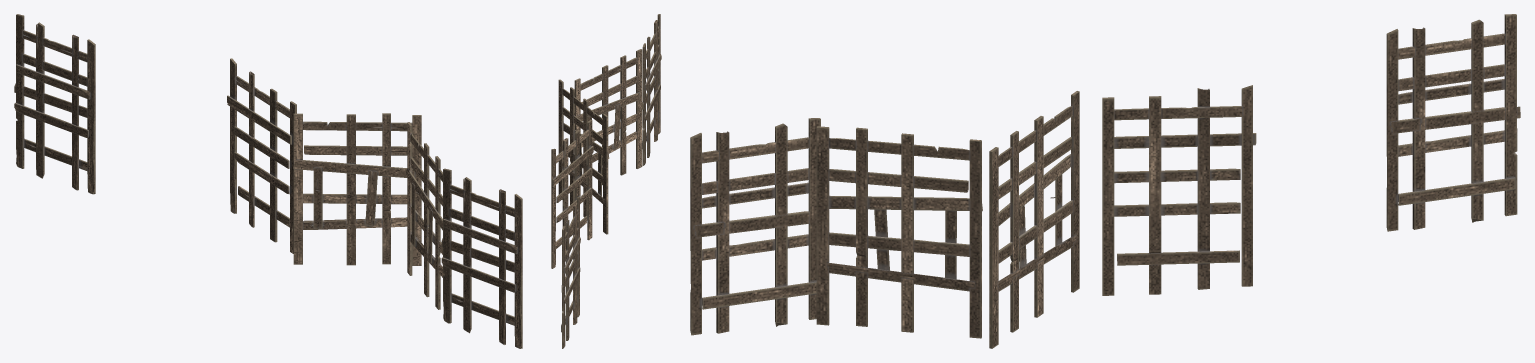
Rendered from Props_01_Fence_Unity.FBX.
3 renders of one model, left to right at view 1: azimuth 30°, elevation 25°; view 2: azimuth 150°, elevation 25°; view 3: azimuth 270°, elevation 25°, orthographic. The views are drawn at different scales.
Parts seen in each view (by area): view 1: Props_01_Fence_UNity; view 2: Props_01_Fence_UNity; view 3: Props_01_Fence_UNity.
Boxes of the visible parts, bbox=[...] form: Props_01_Fence_UNity: bbox=[14, 14, 522, 348]; Props_01_Fence_UNity: bbox=[551, 14, 661, 348]; Props_01_Fence_UNity: bbox=[690, 14, 1520, 348].
Bounding box in the file's own units: 224 × 161 × 590.
1 material, 1 textured.
